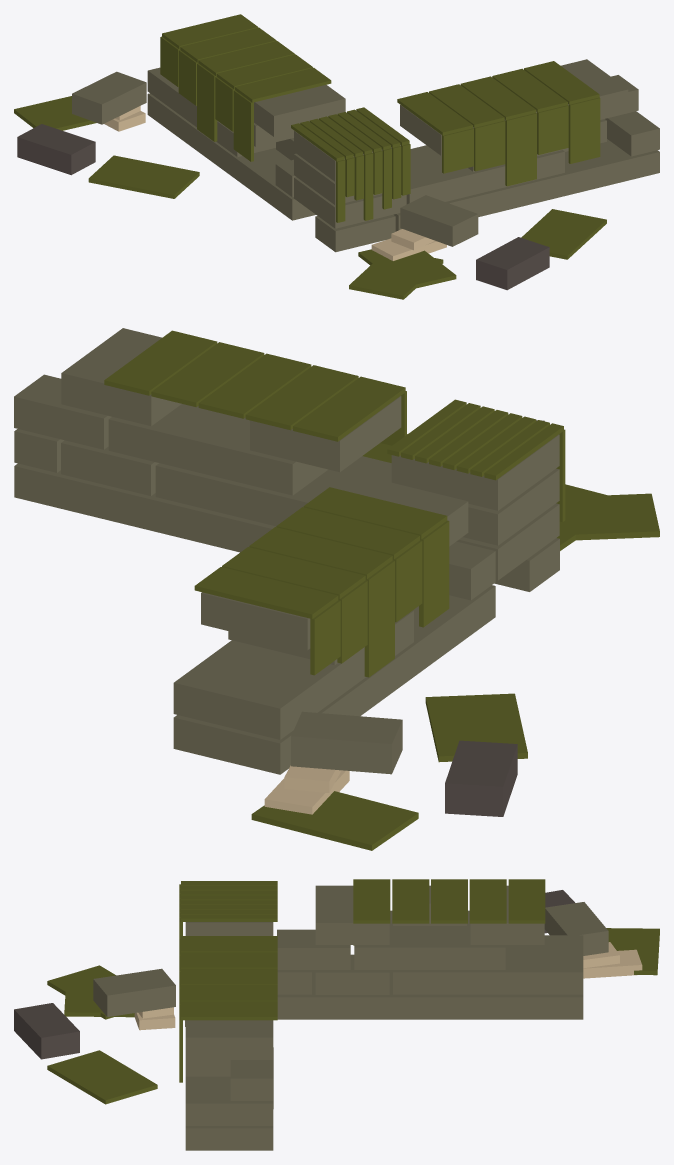
The model's file is SM_SacosEsquina_v4_Red_e1_Danado_LOD1.fbx.
The picture shows the model from 3 angles, top to bottom: view 1: azimuth 30°, elevation 25°; view 2: azimuth 150°, elevation 25°; view 3: azimuth 270°, elevation 25°; orthographic projection. The views are drawn at different scales.
Visible parts, largest first — view 1: SM_sacos_piezas_v17_LOD1; view 2: SM_sacos_piezas_v17_LOD1; view 3: SM_sacos_piezas_v17_LOD1.
Part boxes in pixels (left/top/right/bottom): SM_sacos_piezas_v17_LOD1: left=14, top=14, right=659, bottom=299; SM_sacos_piezas_v17_LOD1: left=14, top=328, right=659, bottom=850; SM_sacos_piezas_v17_LOD1: left=14, top=879, right=659, bottom=1150.
Bounding box in the file's own units: 6.24 × 1.24 × 7.08.
